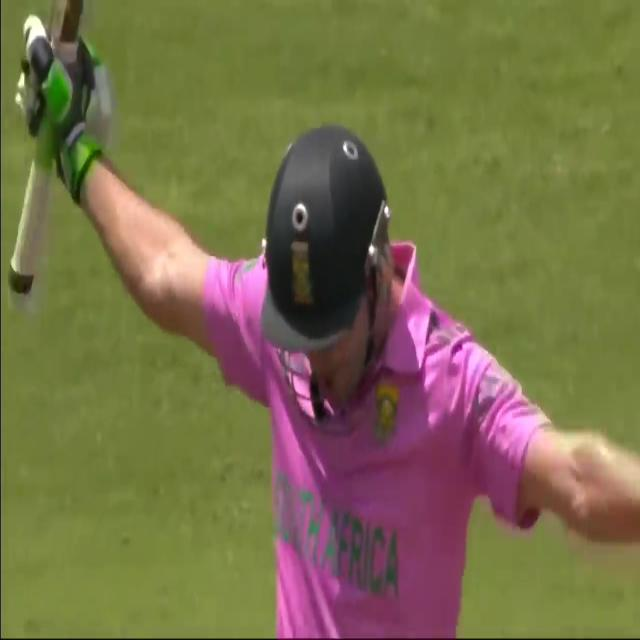Ball: (25, 115, 623, 637)
